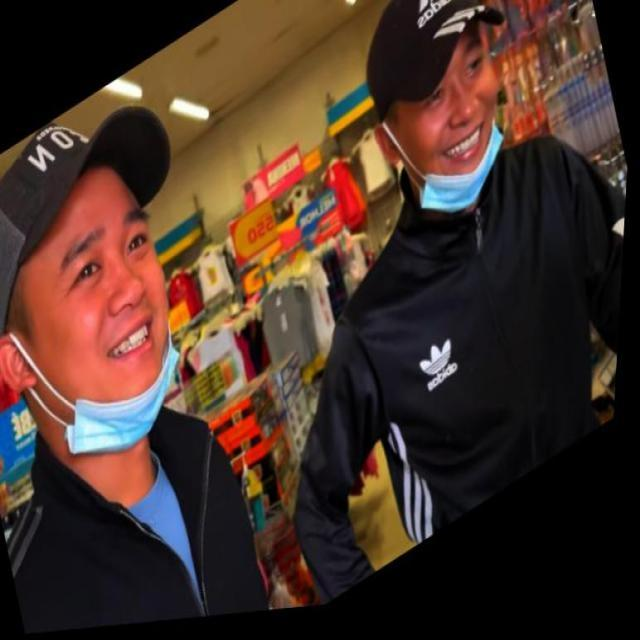hairnet: (19, 193, 204, 488), (390, 39, 522, 248)
